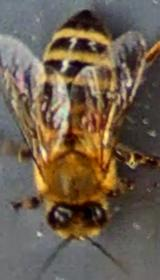varroa_mite: (75, 102, 108, 139)
